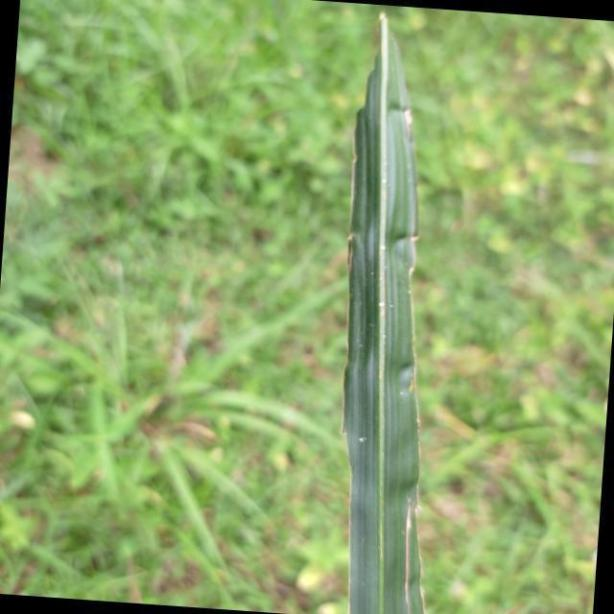Boron: (342, 9, 430, 614)
